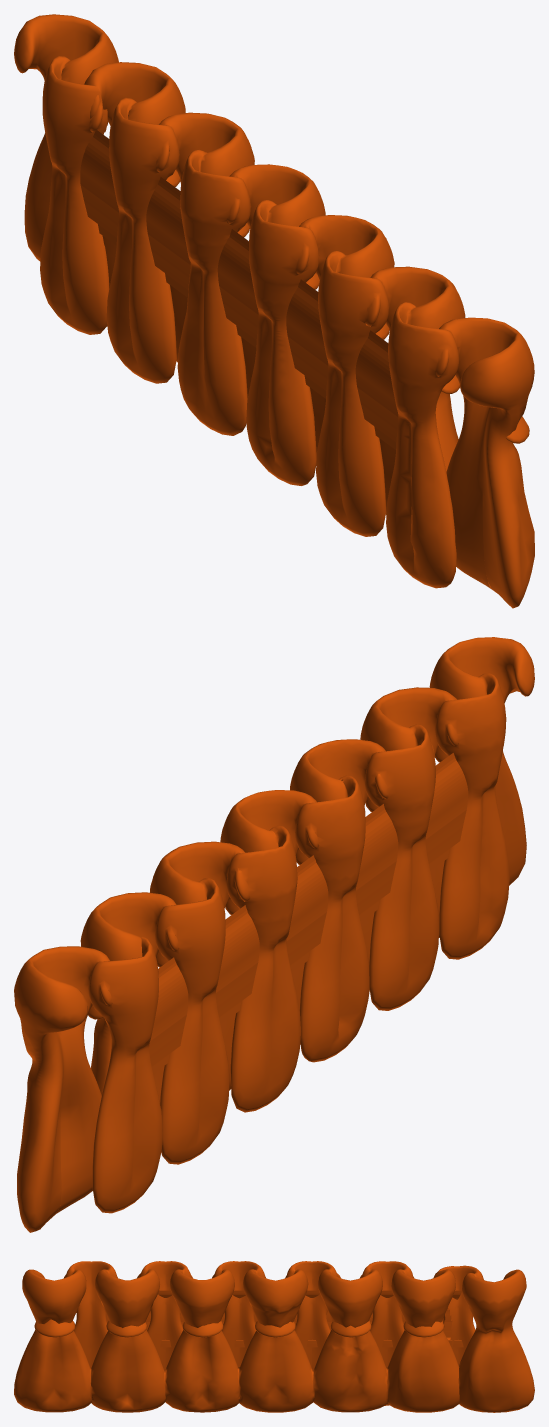
File: Farmhouse_ROOM_curtains_v01.glb
3 views of the same model, one above another, from view 1: azimuth 30°, elevation 25°; view 2: azimuth 150°, elevation 25°; view 3: azimuth 270°, elevation 25° (orthographic). The views are drawn at different scales.
Parts seen in each view (by area): view 1: Farmhouse_ROOM_curtains_v01; view 2: Farmhouse_ROOM_curtains_v01; view 3: Farmhouse_ROOM_curtains_v01.
Part boxes in pixels (<box>): Farmhouse_ROOM_curtains_v01: <box>14,14,534,608</box>; Farmhouse_ROOM_curtains_v01: <box>14,637,534,1232</box>; Farmhouse_ROOM_curtains_v01: <box>14,1261,534,1412</box>.
Size of the model in its own units: 0.2666 by 0.6551 by 2.23.
